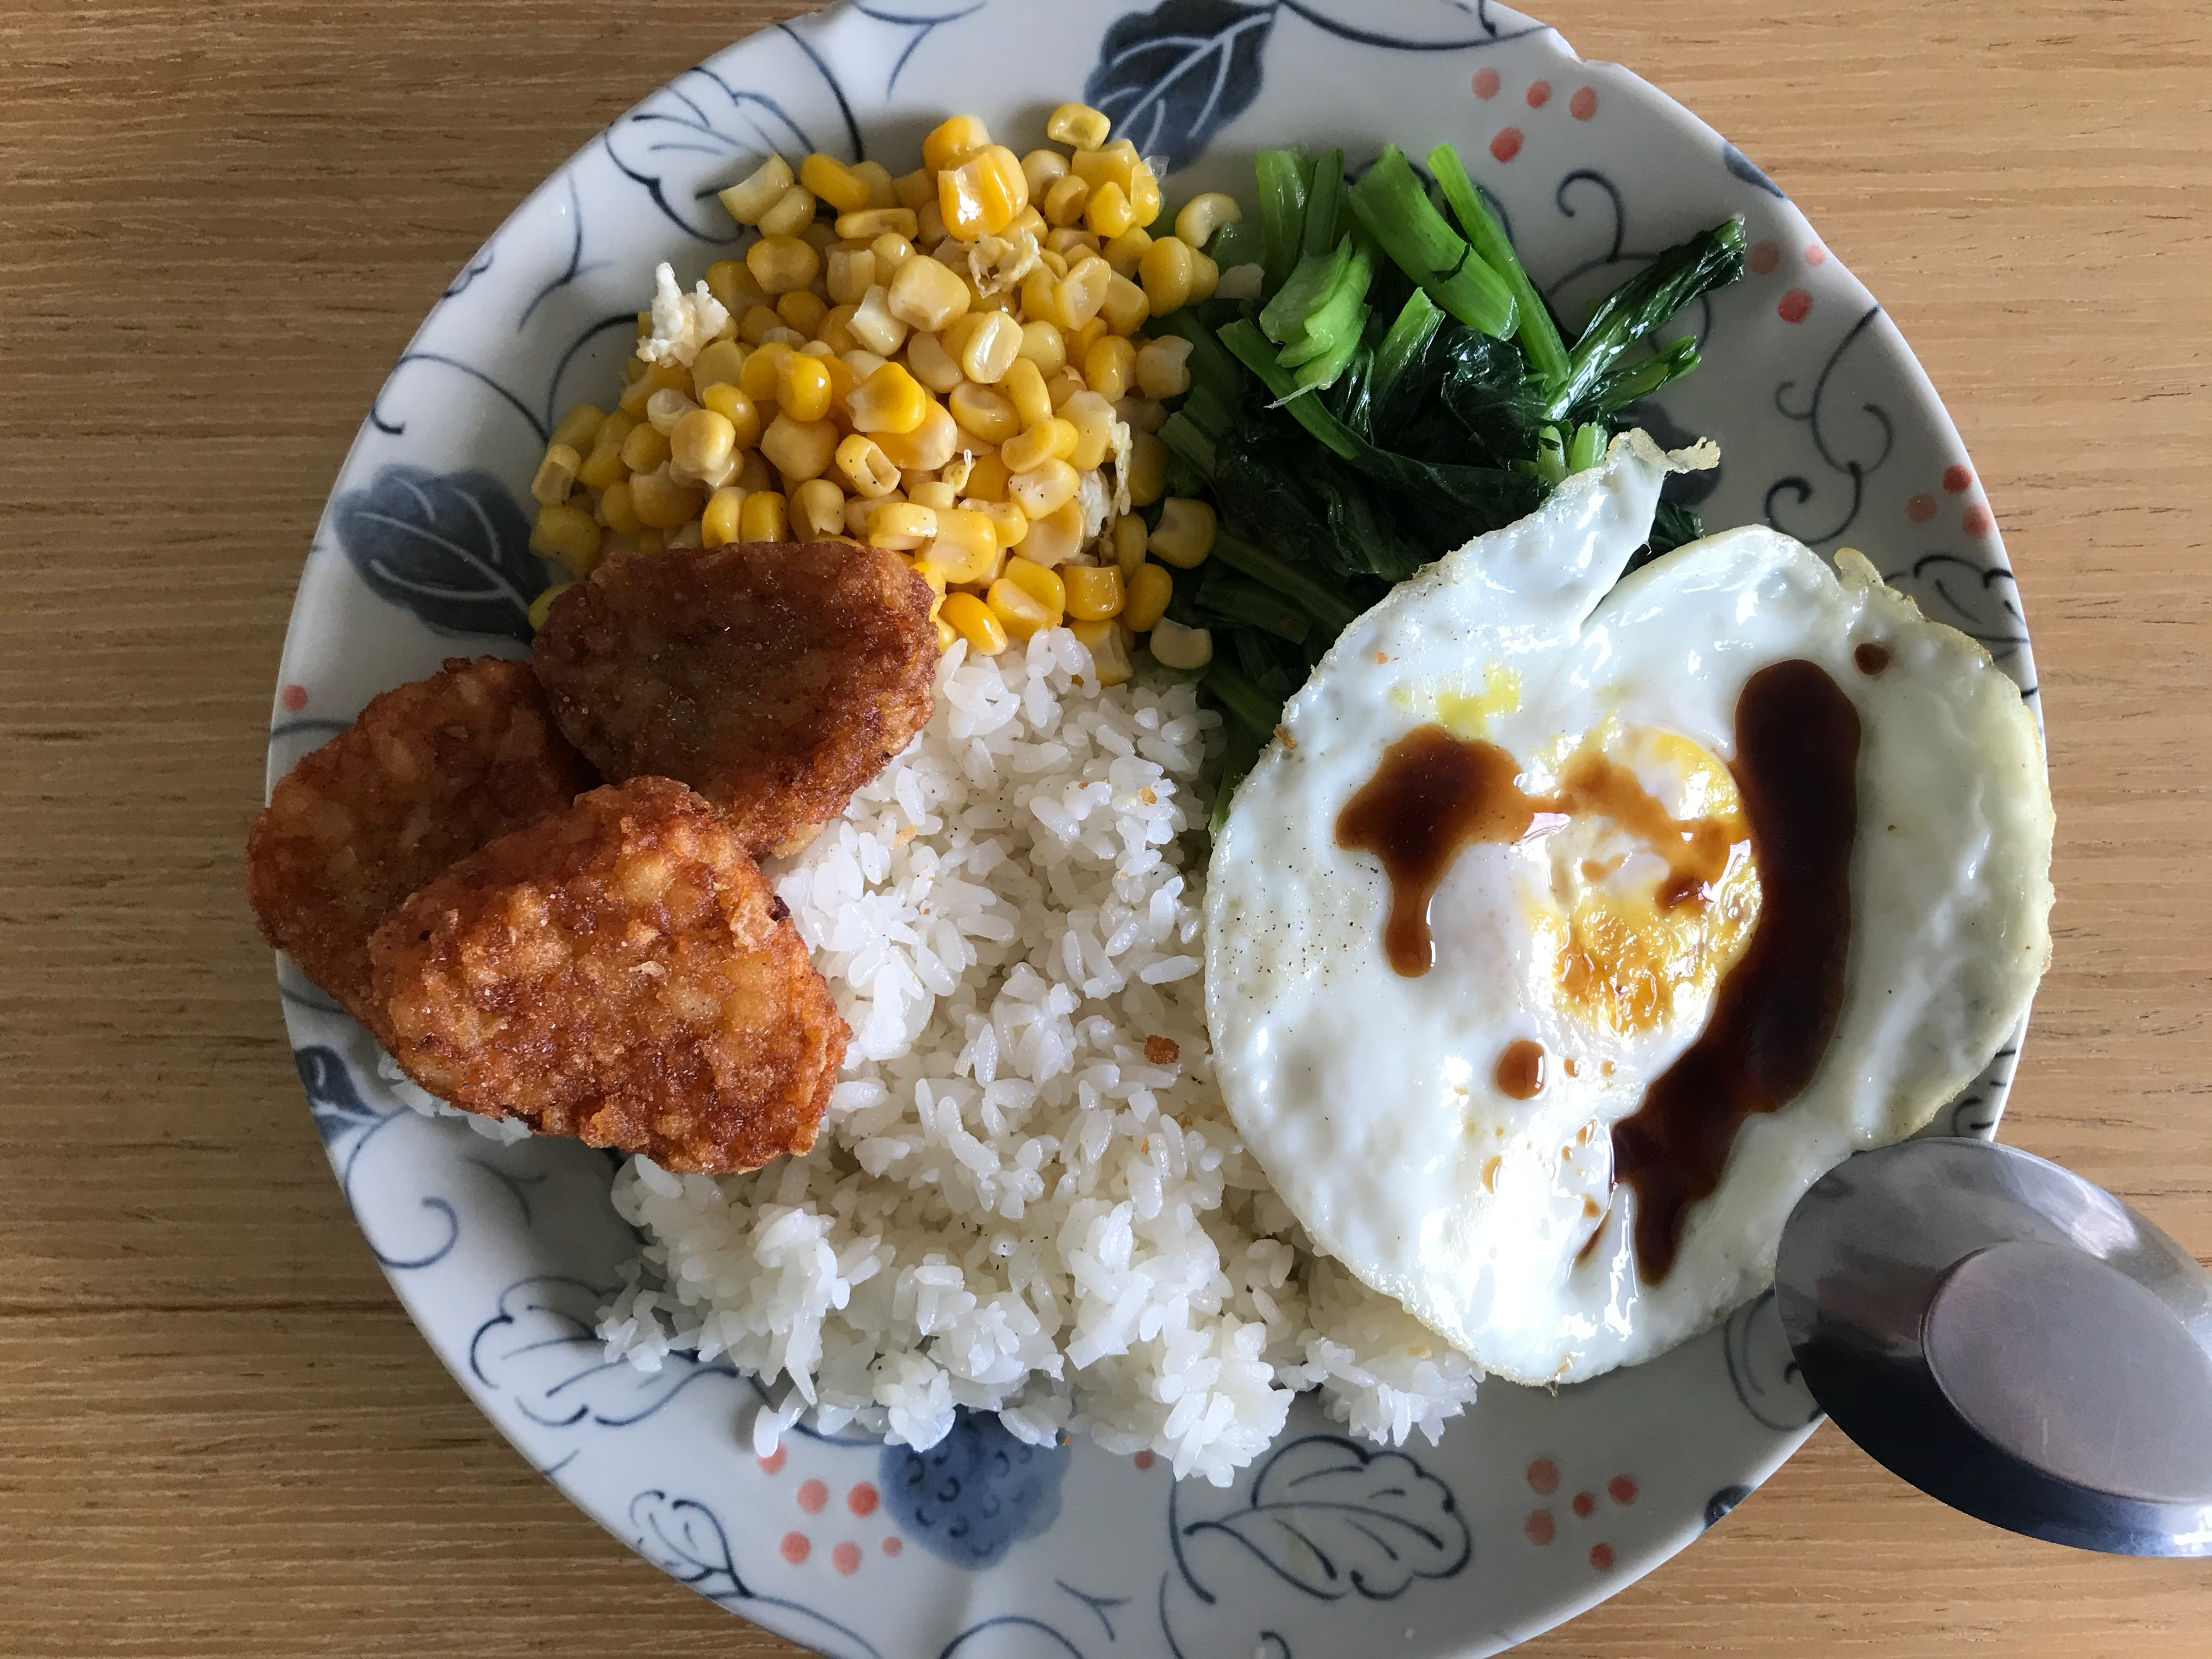fried_eggs: (1200, 511, 2062, 1391)
rice: (829, 648, 1244, 1473)
triangle_hash_brown: (244, 533, 949, 1176)
water_spinach: (1193, 138, 1754, 565)
